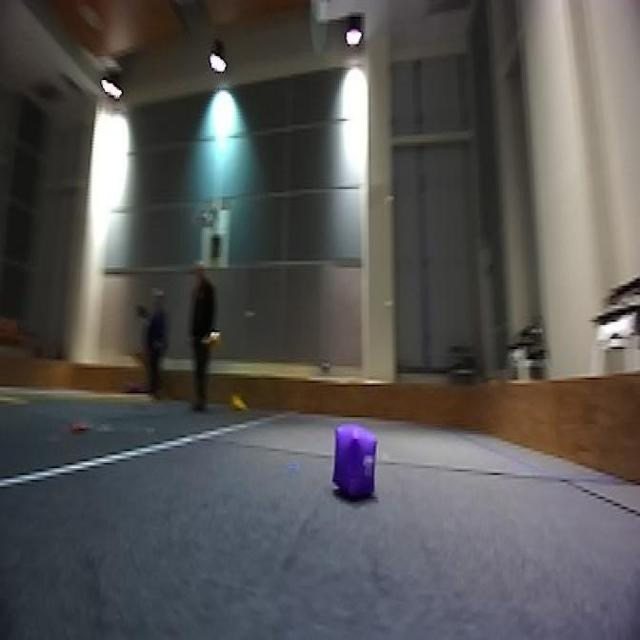frc_cone: (202, 325, 226, 352), (228, 389, 248, 414)
frc_cube: (332, 422, 378, 502)
